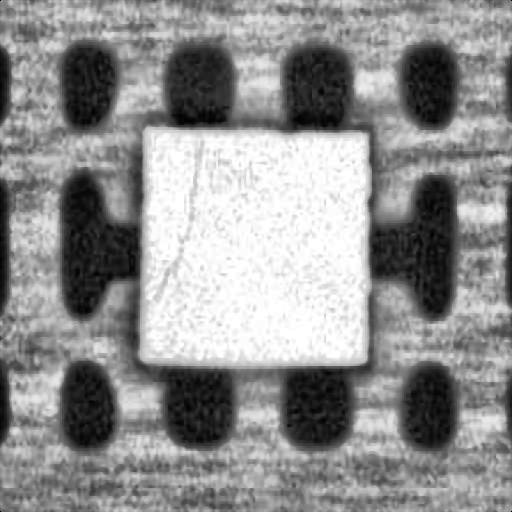DIE_CRACK: (148, 135, 196, 297)
